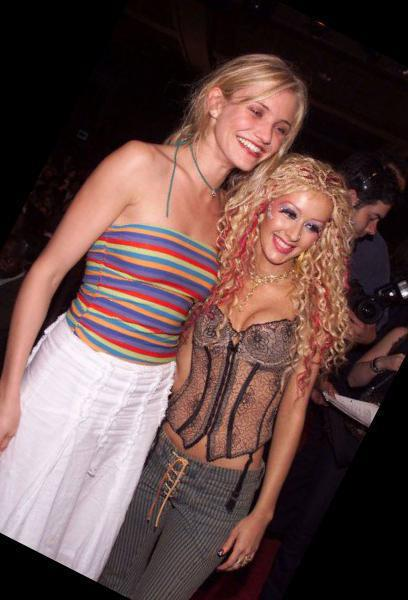Drunk: (218, 79, 288, 166), (264, 187, 322, 259)
